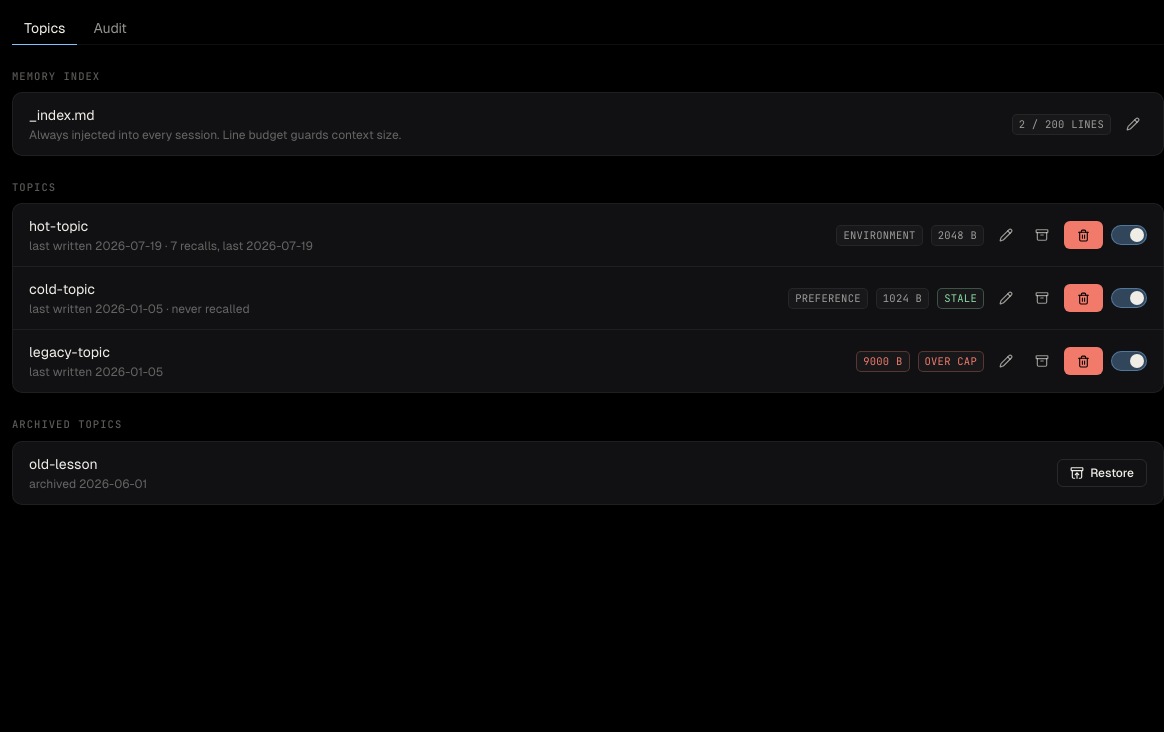
Test case: MemorySettings usage + hygiene › shows provenance for an agent write, with no byte size or action label
Click the tab "Audit": {"x": 110, "y": 28} x1=82 y1=12 x2=139 y2=45
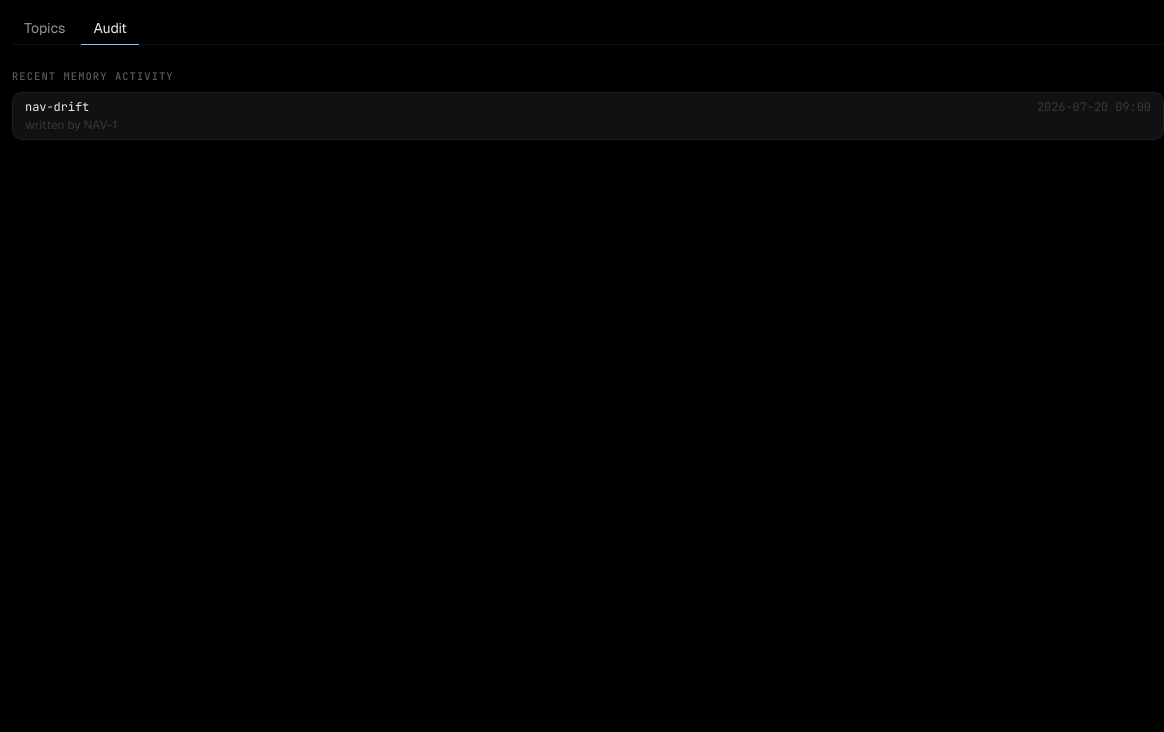
Now the text "written by NAV-1" is shown, box x1=25 y1=117 x2=117 y2=133
Now the text "Archived" is gone
